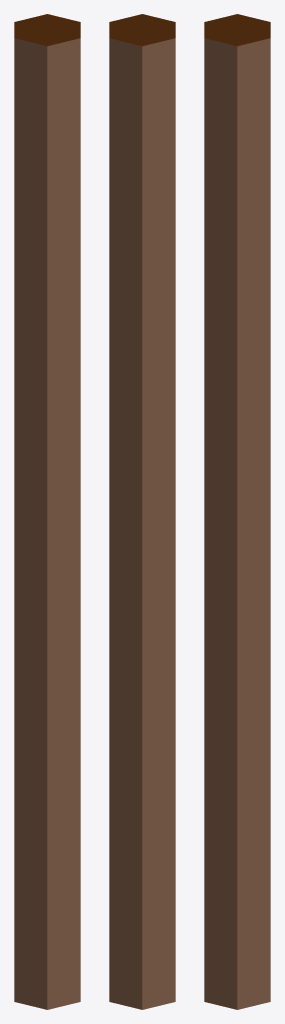
Rendered from PROP_Lamp_2.fbx.
3 views of the same model, side by side, from view 1: azimuth 90°, elevation 25°; view 2: azimuth 150°, elevation 25°; view 3: azimuth 330°, elevation 25° (orthographic).
Visible parts, largest first — view 1: GEO_Stand_Top; view 2: GEO_Stand_Top; view 3: GEO_Stand_Top.
Part boxes in pixels (x1,y1,x2,y2): GEO_Stand_Top: (14, 14, 80, 1009); GEO_Stand_Top: (109, 14, 175, 1009); GEO_Stand_Top: (204, 14, 270, 1009).
Bounding box in the file's own units: 7.18 × 100 × 6.22.
1 material, 1 textured.
